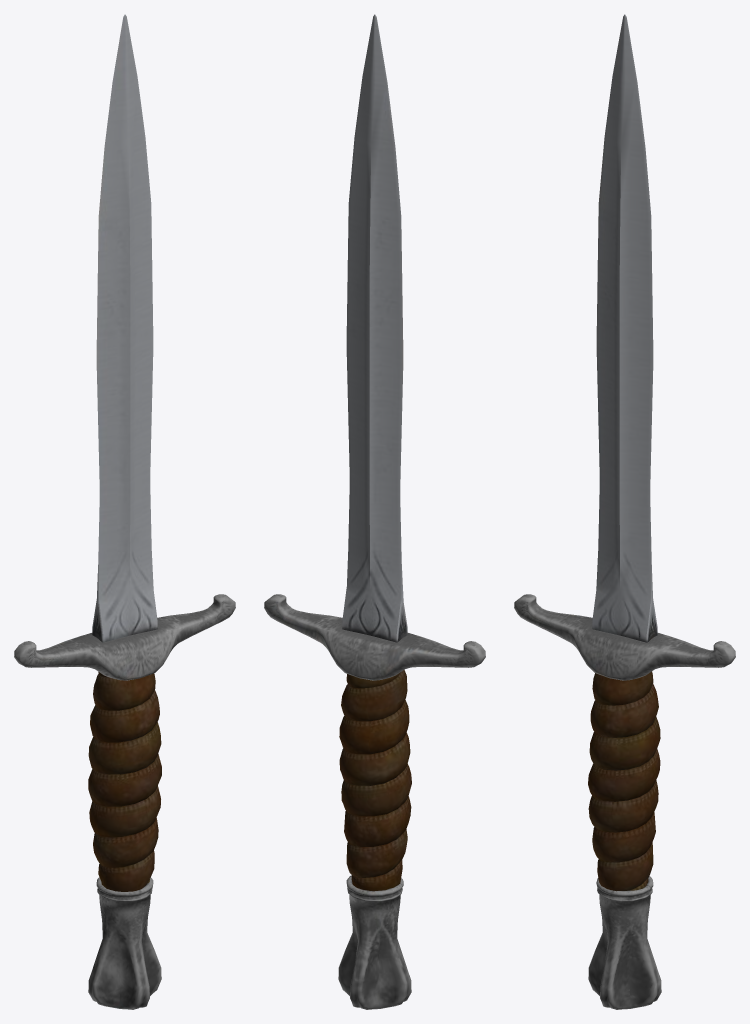
The model's file is ornate_medieval_dagger__dagger.glb.
3 renders of one model, left to right at view 1: azimuth 30°, elevation 25°; view 2: azimuth 150°, elevation 25°; view 3: azimuth 330°, elevation 25°, orthographic.
Parts seen in each view (by area): view 1: ornate_medieval_dagger; view 2: ornate_medieval_dagger; view 3: ornate_medieval_dagger.
Part boxes in pixels (x1=…): ornate_medieval_dagger: x1=14, y1=14, x2=235, y2=1009; ornate_medieval_dagger: x1=264, y1=14, x2=485, y2=1009; ornate_medieval_dagger: x1=514, y1=14, x2=735, y2=1009.
Size of the model in its own units: 0.0798 by 0.3459 by 0.025.
Materials: 1 (1 with a texture image).
